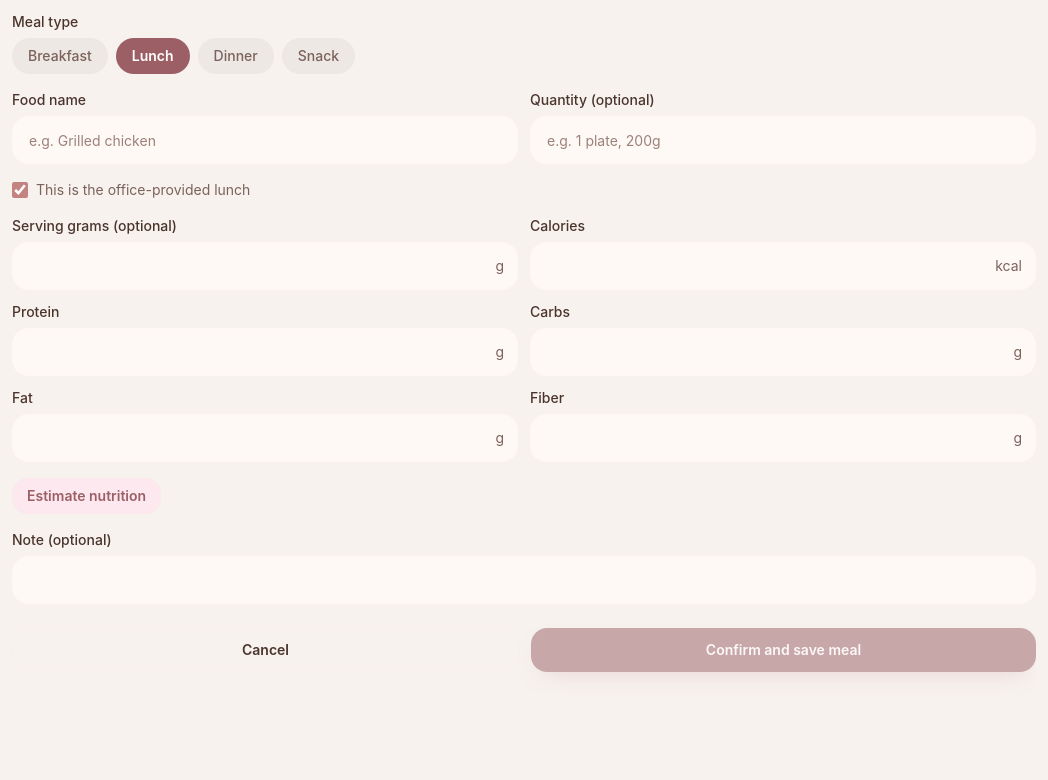
Test: MealEntryForm › shows Estimated with Groq for a reviewed estimate
In the field labelled "Food name": (265, 140) left=12, top=116, right=518, bottom=164, type "Soto"
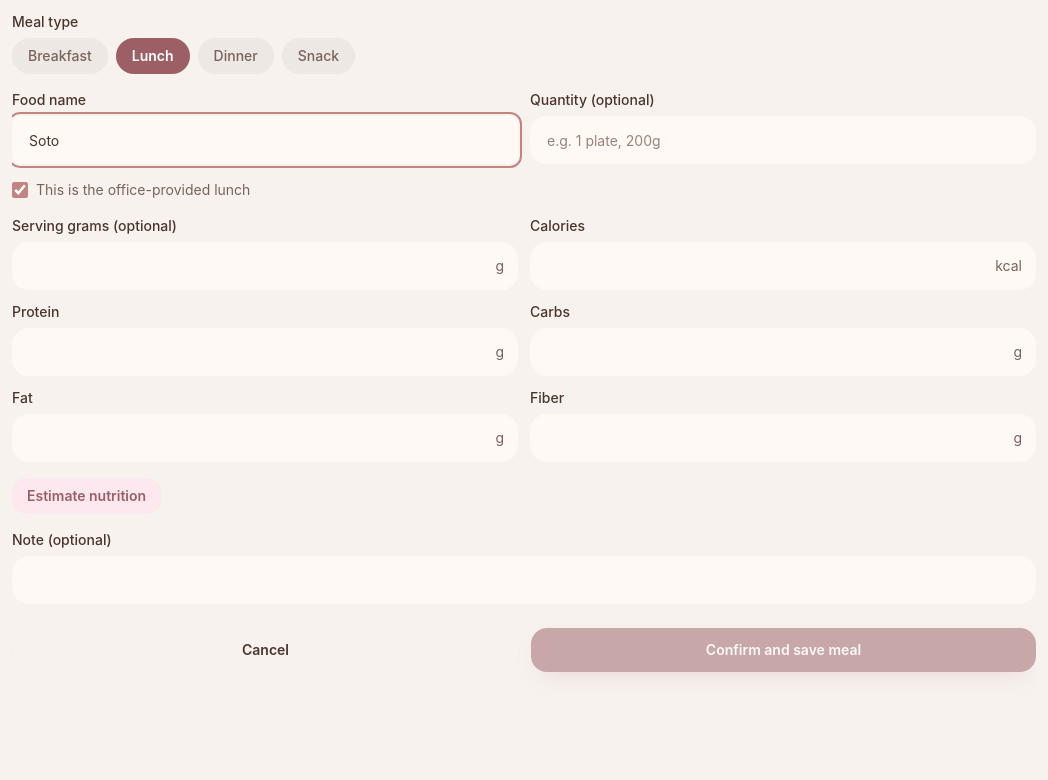
Click the button "Estimate nutrition": (87, 496) left=12, top=478, right=161, bottom=514
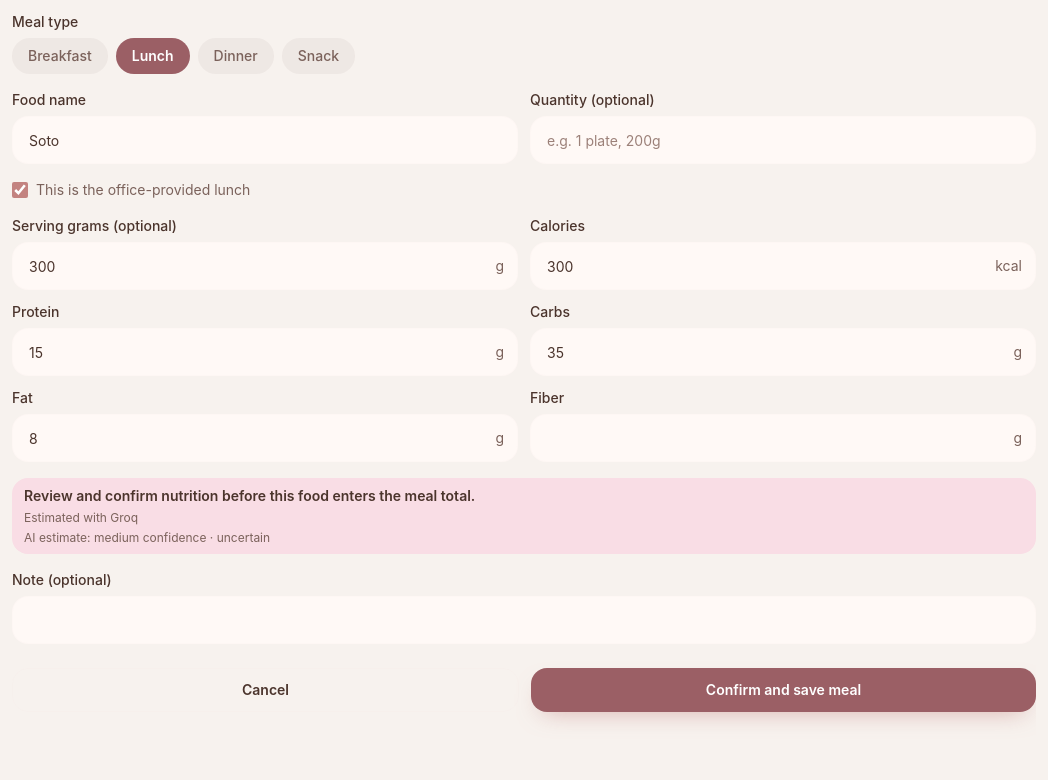
Expected: the text "Estimated with Groq" is shown, left=24, top=510, right=138, bottom=525
